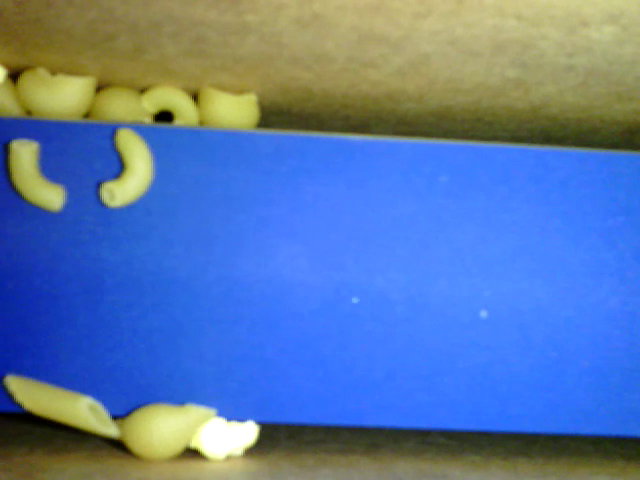elbow: (99, 127, 155, 207), (10, 137, 65, 213), (137, 84, 201, 126)
penne: (2, 373, 118, 436)
shell: (112, 403, 217, 461), (15, 68, 97, 120), (196, 82, 260, 132), (91, 85, 153, 125)
